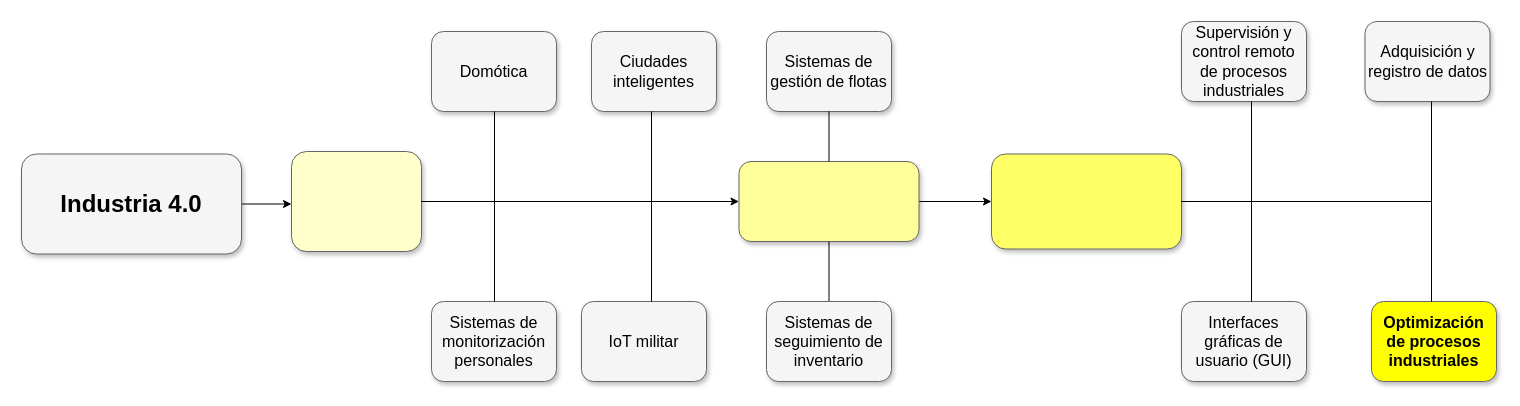
Some shapes in this 1520 by 406 pixel diagram are drawn without their labels. Here are the shapes that lost their labels. From the top down, the centre of each, then its label:
pixel 357 202: IoT
pixel 829 202: IIoT (Internet de las cosas industrial)
pixel 1087 202: Sistemas SCADA (Supervisory Control and Data Acquisition)
